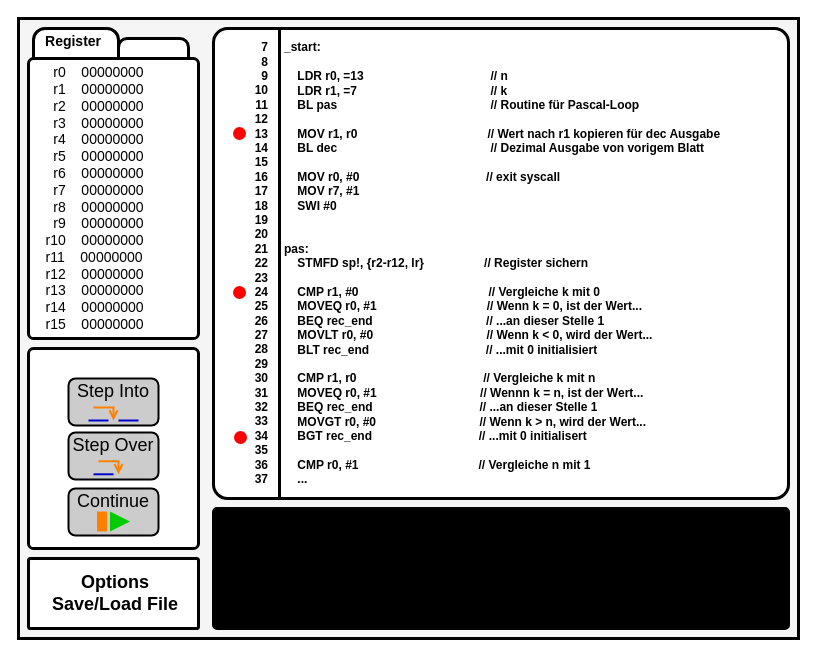
The diagram is 817 pixels wide and 657 high, and some of its shapes have lost their labels. Each missing label, with the box of its shape:
Debugger: (26, 346, 200, 550)
Stack: (116, 36, 190, 70)
Terminal: 1716: (212, 506, 790, 630)
